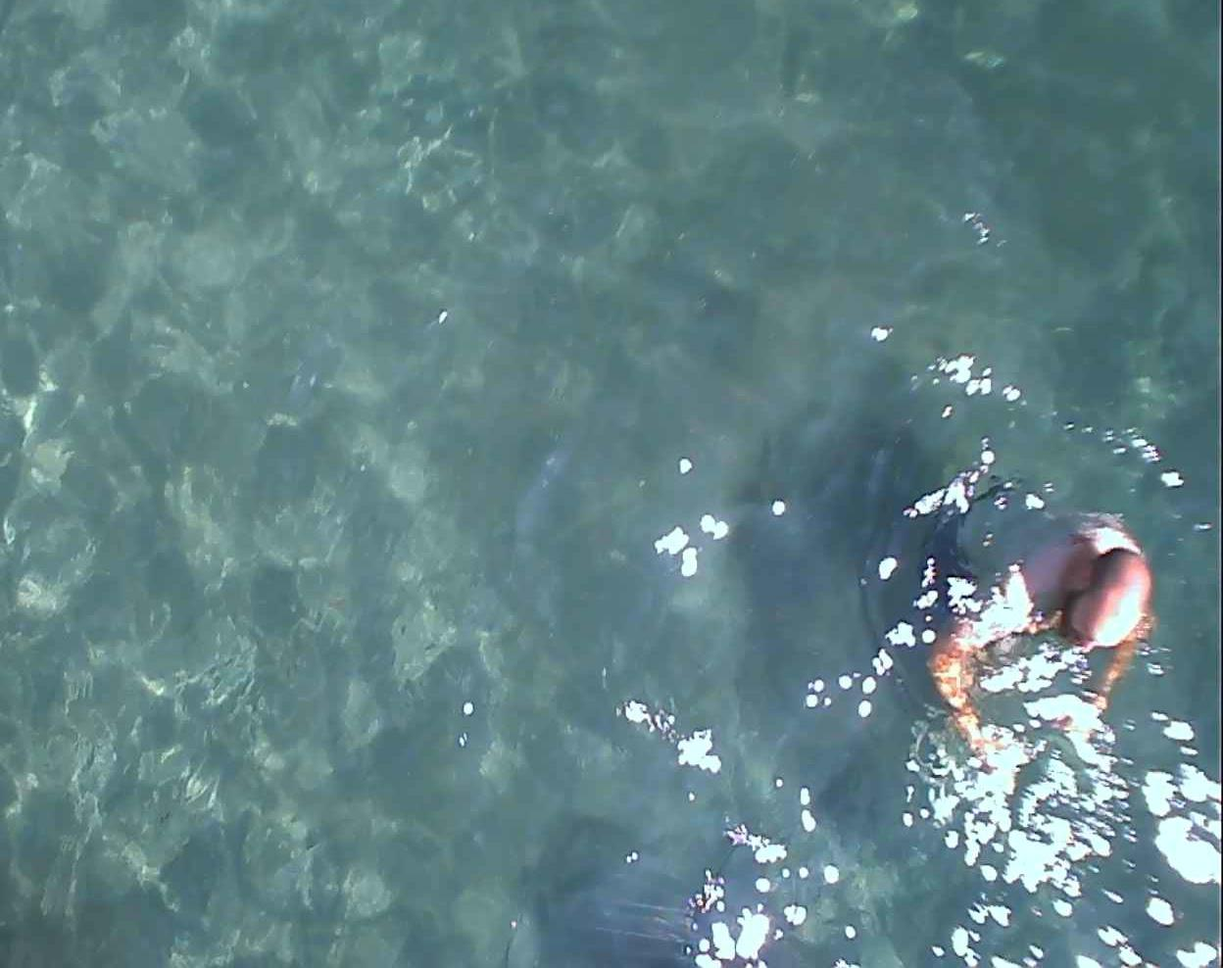swimmer: (923, 465, 1150, 722)
